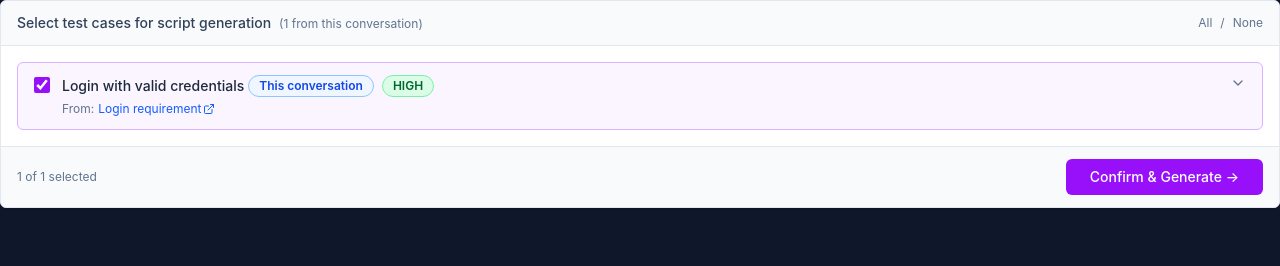
Test: SarahInputSelection › Rendering — single entry › expands and collapses preview on toggle
Click the button named "Show preview".
click(1238, 83)  # box [1230,75,1246,91]
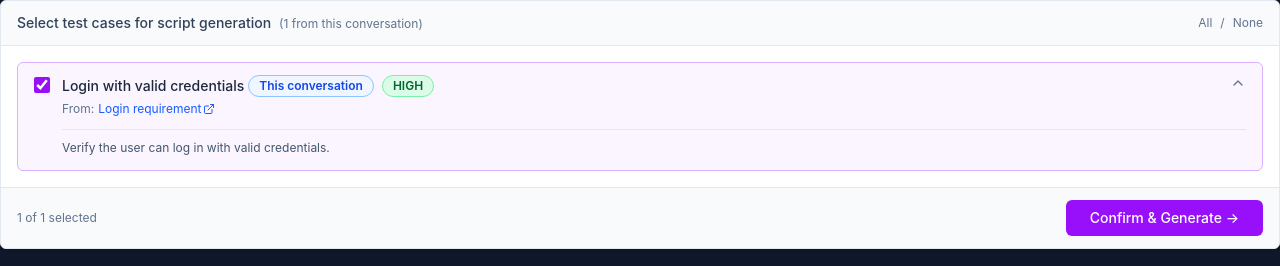
Now the text "Verify the user can log in with valid credentials." is shown, box [62,129,1246,158]
Click the button named "Hide preview".
click(1238, 83)  # box [1230,75,1246,91]
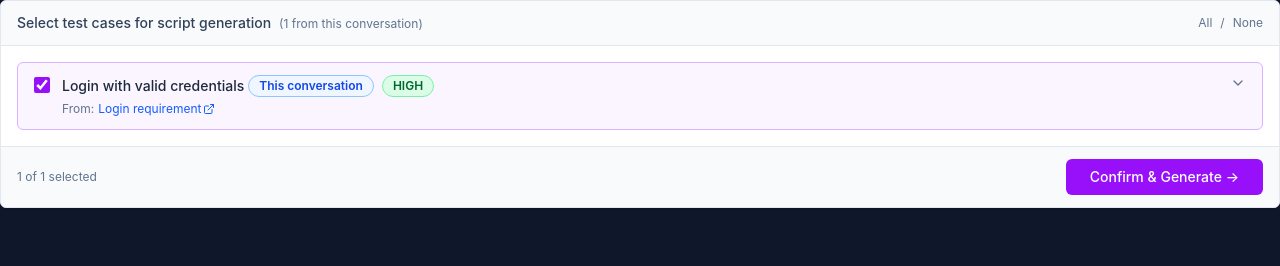
Now the text "Verify the user can log in with valid credentials." is gone
